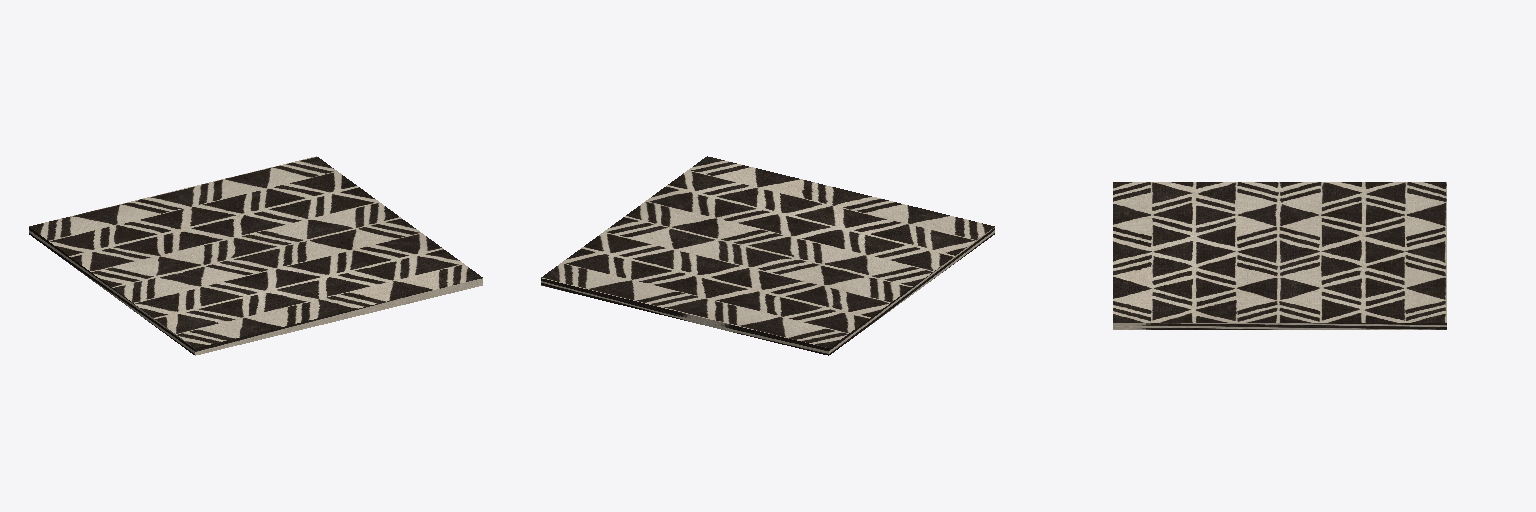
3 views of the same model, side by side, from view 1: azimuth 30°, elevation 25°; view 2: azimuth 150°, elevation 25°; view 3: azimuth 270°, elevation 25° (orthographic).
Parts seen in each view (by area): view 1: Cube.006_Cube.005; view 2: Cube.006_Cube.005; view 3: Cube.006_Cube.005.
Part boxes in pixels (left/top/right/bottom): Cube.006_Cube.005: left=29, top=156, right=482, bottom=355; Cube.006_Cube.005: left=541, top=156, right=994, bottom=355; Cube.006_Cube.005: left=1113, top=182, right=1446, bottom=329.
Size of the model in its own units: 11.55 by 0.2848 by 11.55.
1 materials, 1 textured.